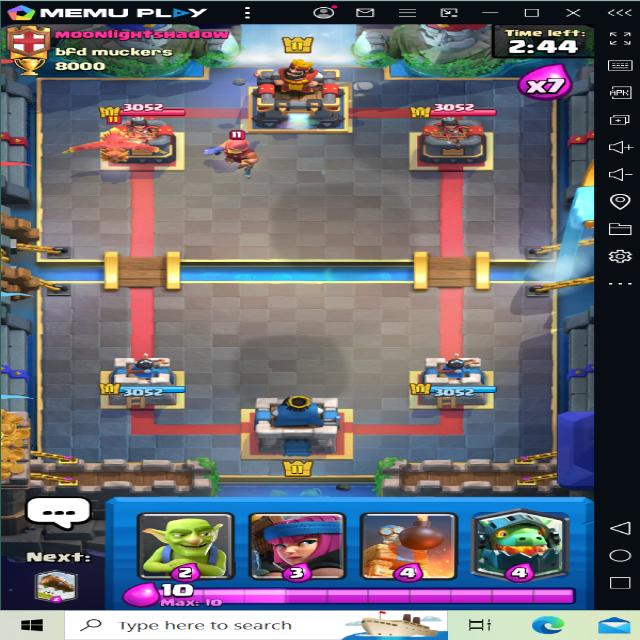fisherman: (199, 128, 287, 172)
phoenix: (63, 117, 175, 167)
